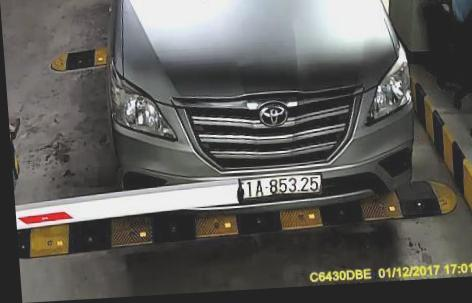License_Plate: (226, 169, 325, 203)
